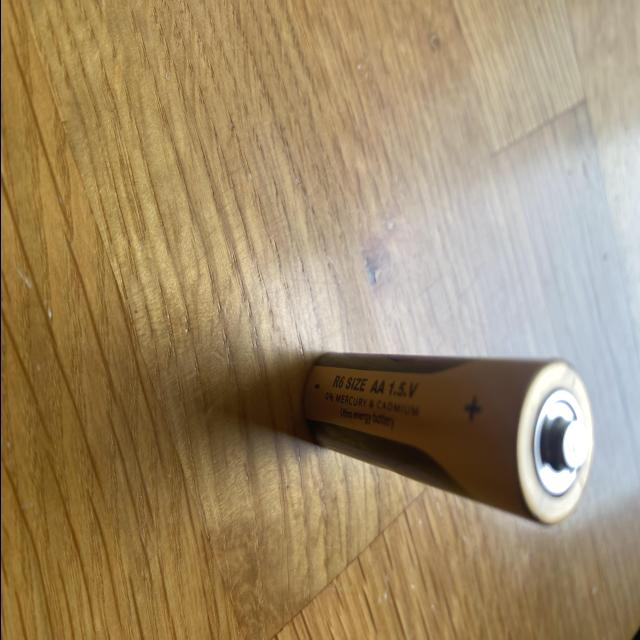AA: (302, 350, 594, 526)
